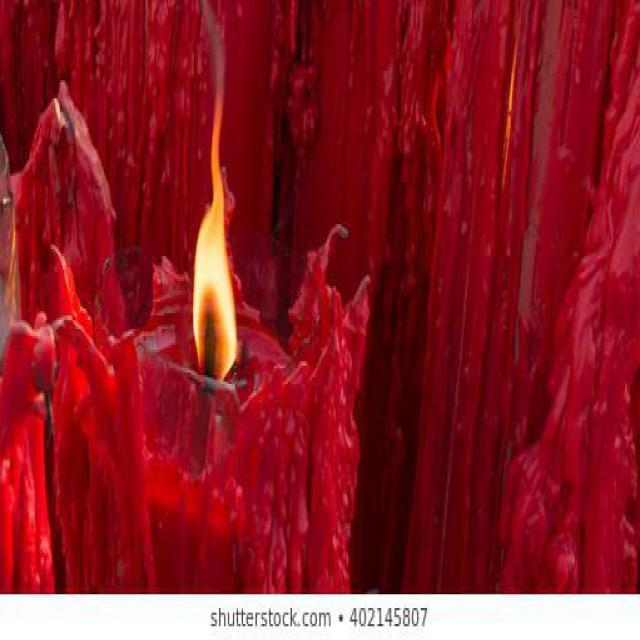Fire: (193, 0, 238, 389)
